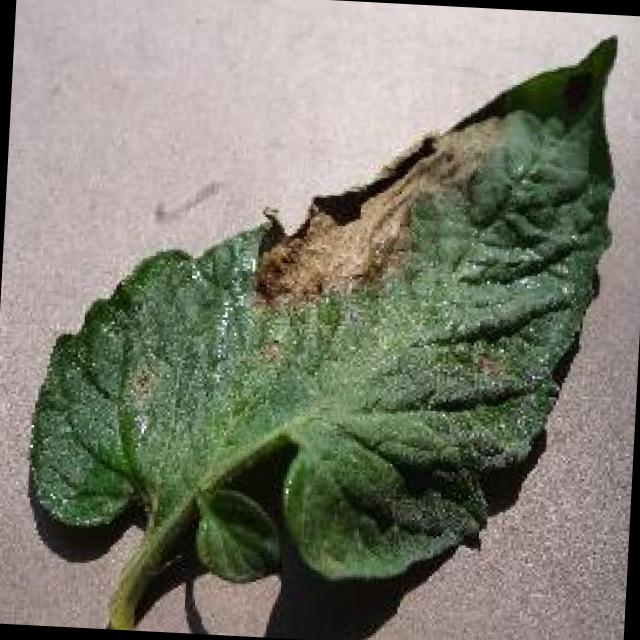Tomato_Late_Blight: (236, 102, 530, 336)
